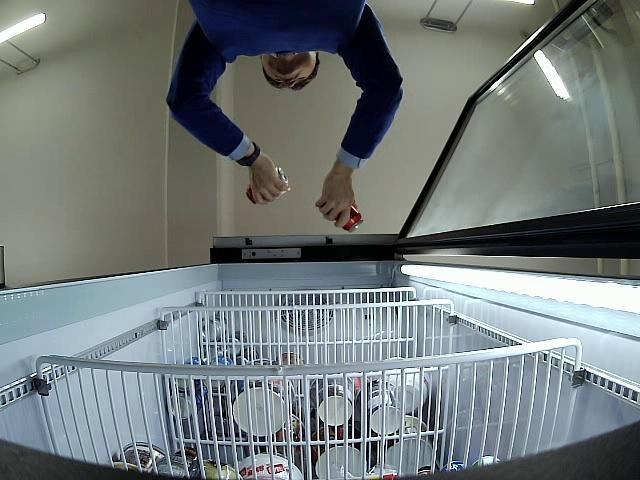11_cocaColaZero: (246, 166, 289, 206), (343, 205, 363, 232)
